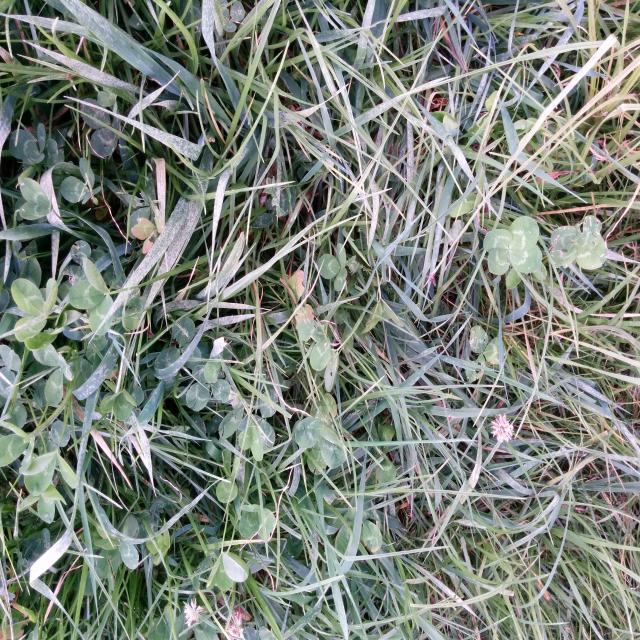Four Leaf Clover: (484, 216, 542, 275), (551, 216, 607, 270)
